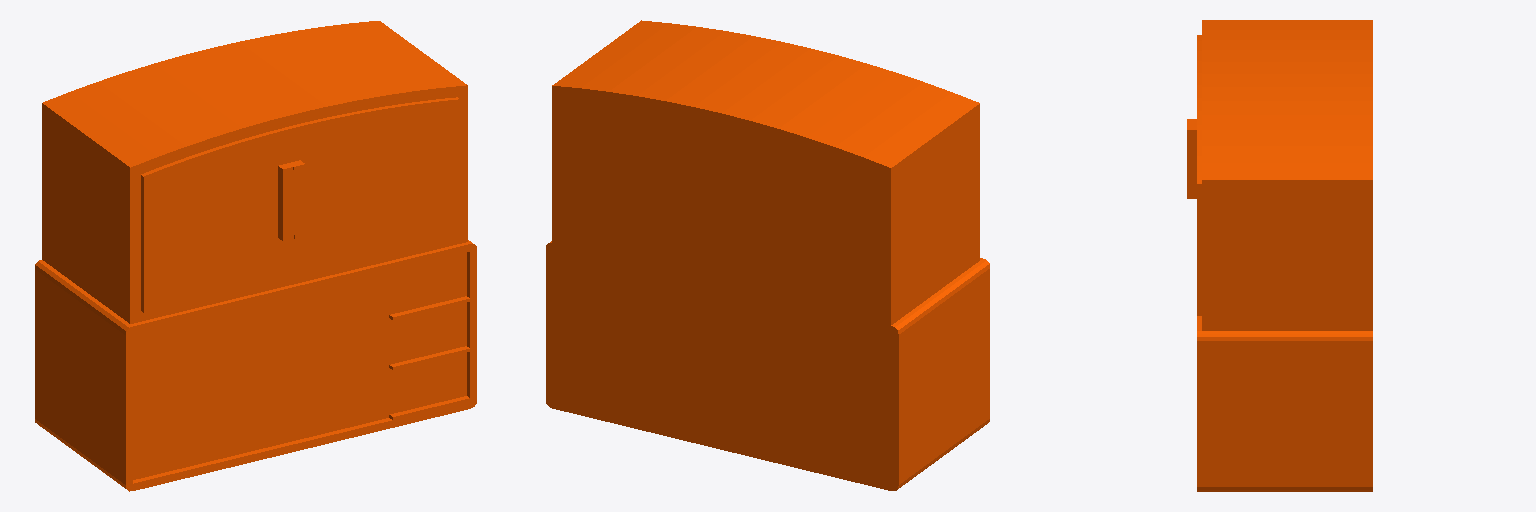
The robot description file, URDF, robot "ChestOfDrawers_d3020443d08ade03c60d786d2f20153c":
<?xml version="1.0" ?>
<robot name="ChestOfDrawers_d3020443d08ade03c60d786d2f20153c">
   <material name="obj_color">
      <color rgba="1.0 0.423529411765 0.0392156862745 1.0"/>
   </material>
   <link name="top">
      <inertial>
         <origin rpy="0.004499849935526042 0.005226207165376115 0.007840283610854409" xyz="-0.0001013103024182305 0.001805499461940003 0.001154074858008435"/>
         <mass value="1.896737247937299"/>
         <inertia ixx="0.004499862094617992" ixy="-1.997193625533403e-06" ixz="-2.829157184257274e-06" iyy="0.007840229773058453" iyz="1.172913697319277e-05" izz="0.005226248844080116"/>
      </inertial>
      <visual>
         <origin rpy="0 0 0" xyz="0 0 0"/>
         <geometry>
            <mesh filename="top_watertight_tiny.stl" scale="1 1 1"/>
         </geometry>
         <material name="obj_color"/>
      </visual>
      <collision>
         <origin rpy="0 0 0" xyz="0 0 0"/>
         <geometry>
            <mesh filename="top_watertight_tiny.obj" scale="1 1 1"/>
         </geometry>
      </collision>
   </link>
   <link name="bottom">
      <inertial>
         <origin rpy="1.633333333199431e-08 1.633333333199431e-08 1.633333333362855e-08" xyz="0.3464080000000008 0.3464080000000008 0.3464080000000008"/>
         <mass value="0.0009800000000000017"/>
         <inertia ixx="1.633333333253906e-08" ixy="5.447480642029219e-19" ixz="5.447480642029219e-19" iyy="1.633333333253906e-08" iyz="5.447480642029219e-19" izz="1.633333333253906e-08"/>
      </inertial>
      <visual>
         <origin rpy="0 0 0" xyz="0 0 0"/>
         <geometry>
            <mesh filename="bottom_watertight_tiny.stl" scale="1 1 1"/>
         </geometry>
         <material name="obj_color"/>
      </visual>
   </link>
   <link name="world"/>
   <joint name="world_to_base" type="fixed">
      <origin xyz="0 0 0"/>
      <axis xyz="0 0 0"/>
      <parent link="world"/>
      <child link="bottom"/>
   </joint>
   <joint name="rotation" type="revolute">
      <origin xyz="0 0 0"/>
      <axis xyz="0 0 -1"/>
      <parent link="bottom"/>
      <child link="top"/>
      <dynamics damping="1.0" friction="1.0"/>
      <limit effort="0.1" velocity="0.1" lower="0" upper="0.001"/>
   </joint>
</robot>

--- Facts derived from the render (not from the file) ---
Views: 3 orthographic renders of the robot side by side, from view 1: azimuth 30°, elevation 25°; view 2: azimuth 150°, elevation 25°; view 3: azimuth 270°, elevation 25°.
Model ChestOfDrawers_d3020443d08ade03c60d786d2f20153c with 3 links and 2 joints (1 revolute, 1 fixed), rooted at world, posed every joint at zero.
Visible links, largest first — view 1: top; view 2: top; view 3: top.
Link boxes in pixels (x1,y1,x2,y2): top: [35, 21, 476, 491]; top: [546, 20, 989, 490]; top: [1187, 20, 1372, 491].
Bounding box of the posed robot: 0.168 × 0.08 × 0.153 m (x, y, z).
Meshes: 2 distinct files referenced, 1 mesh visuals loaded (1 binary STL); not drawn: 1 (reference not matched to a file when rendering).
